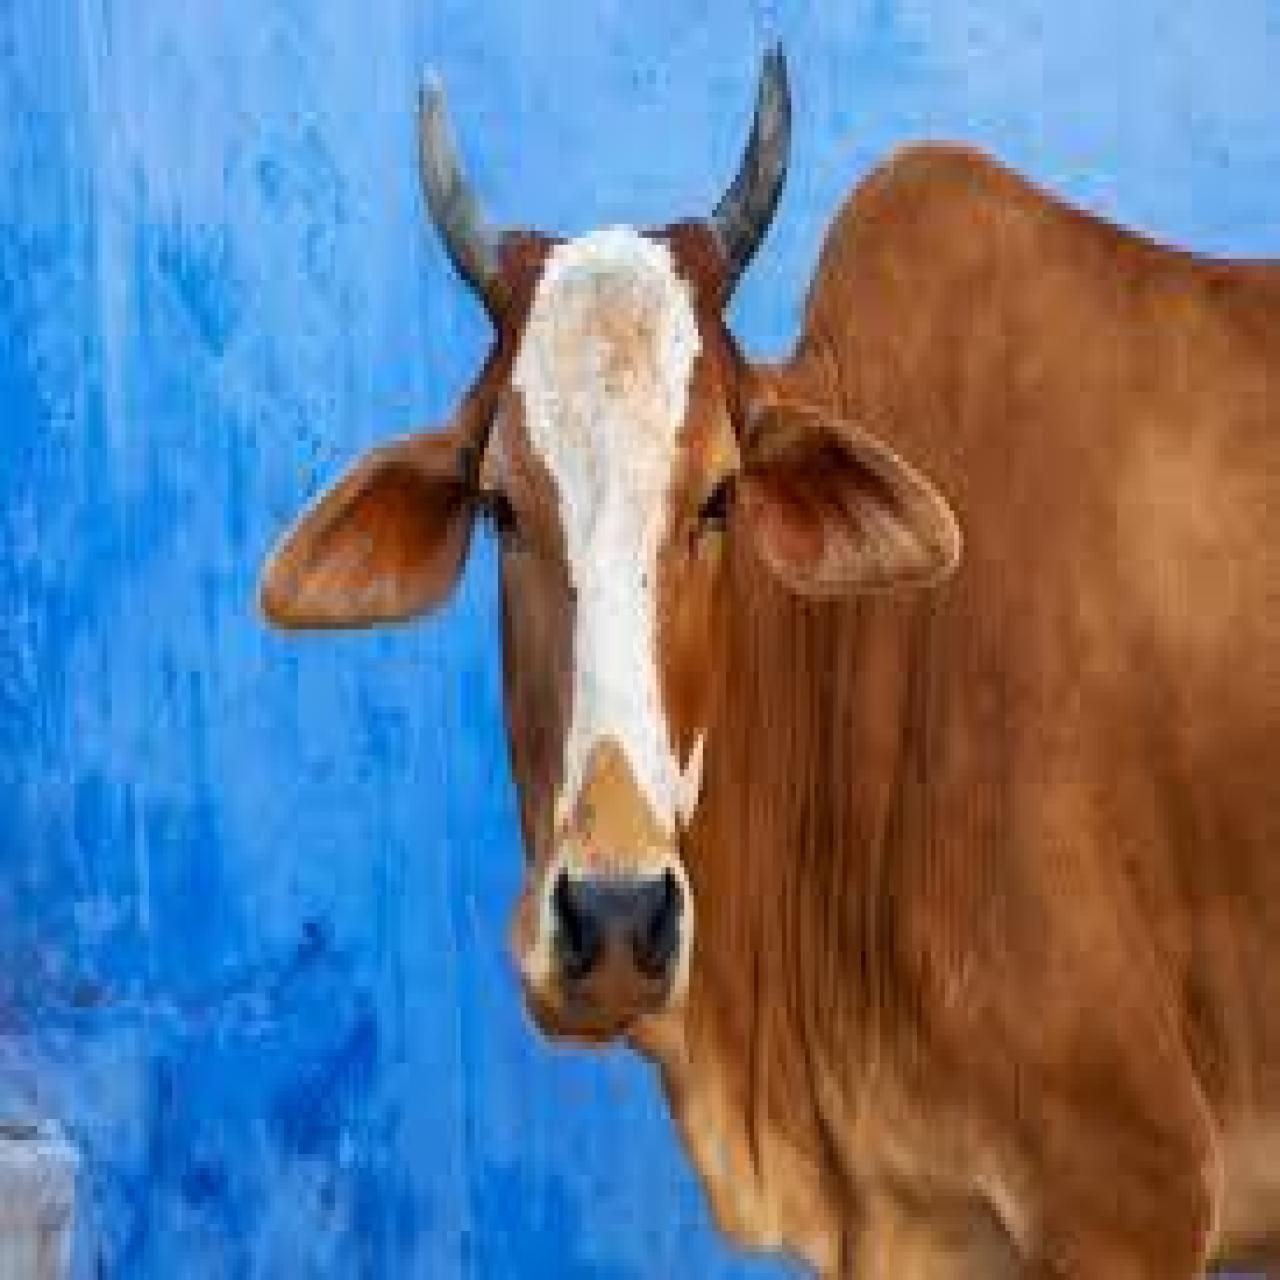cow: (260, 35, 1280, 1280)
